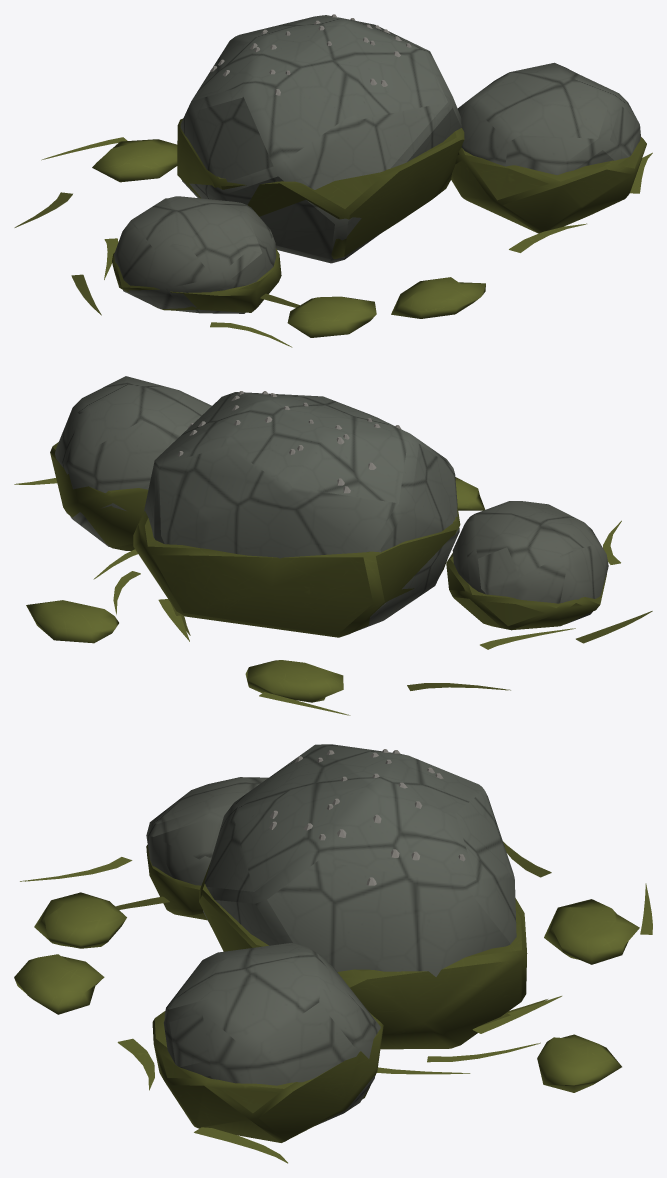
Rendered from seaweed_rocks.glb.
3 views of the same model, one above another, from view 1: azimuth 30°, elevation 25°; view 2: azimuth 150°, elevation 25°; view 3: azimuth 270°, elevation 25° (orthographic). The views are drawn at different scales.
Visible parts, largest first — view 1: seaweed_rocks; view 2: seaweed_rocks; view 3: seaweed_rocks.
Part boxes in pixels (x1,y1,x2,y2): seaweed_rocks: [14, 14, 652, 347]; seaweed_rocks: [14, 376, 652, 715]; seaweed_rocks: [14, 744, 652, 1163].
Bounding box in the file's own units: 4.79 × 1.52 × 3.72.
4 materials, 4 textured.
